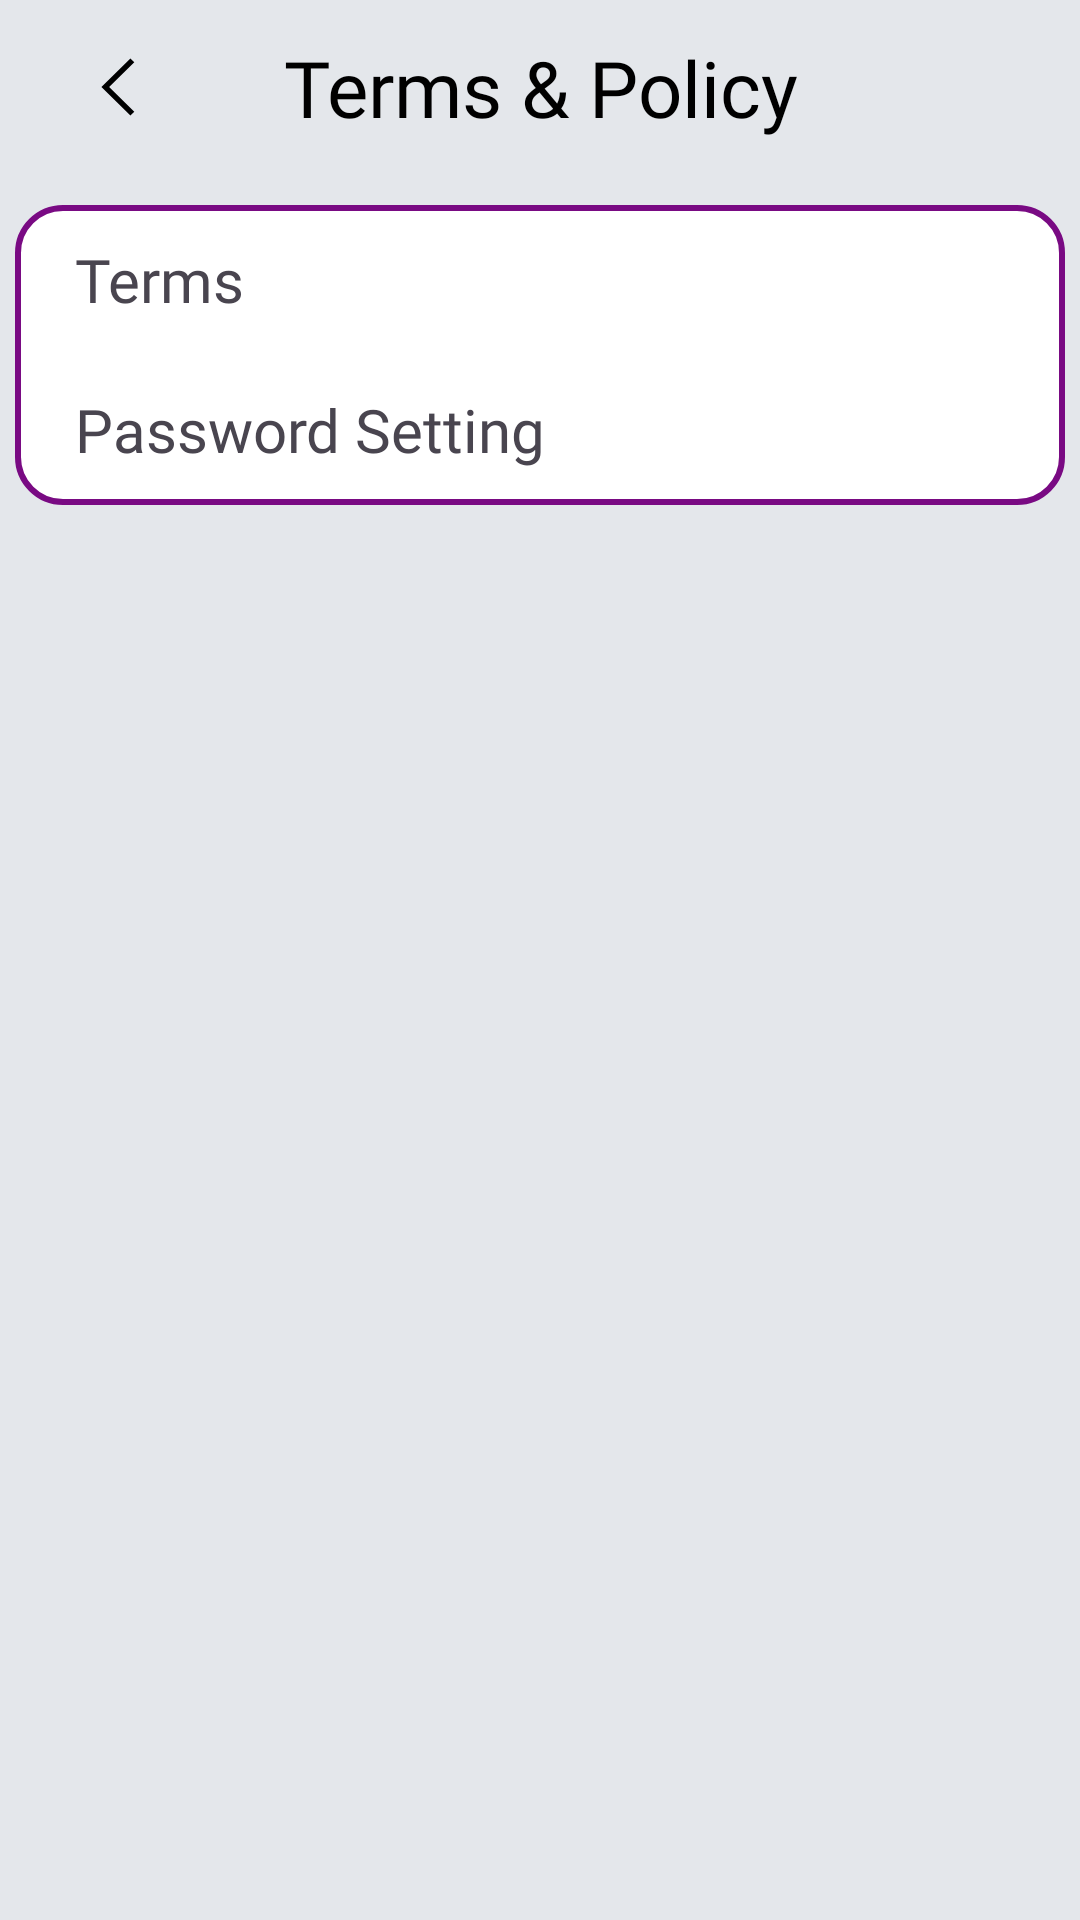

Icons on this 1080 x 1920 Android screen, each with the point to tap as point (x, y):
back: point (117, 87)
